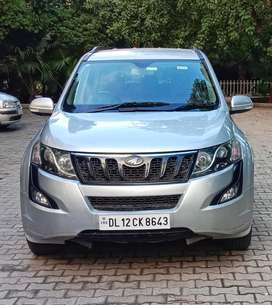DL12CK8643: (98, 214, 170, 230)
